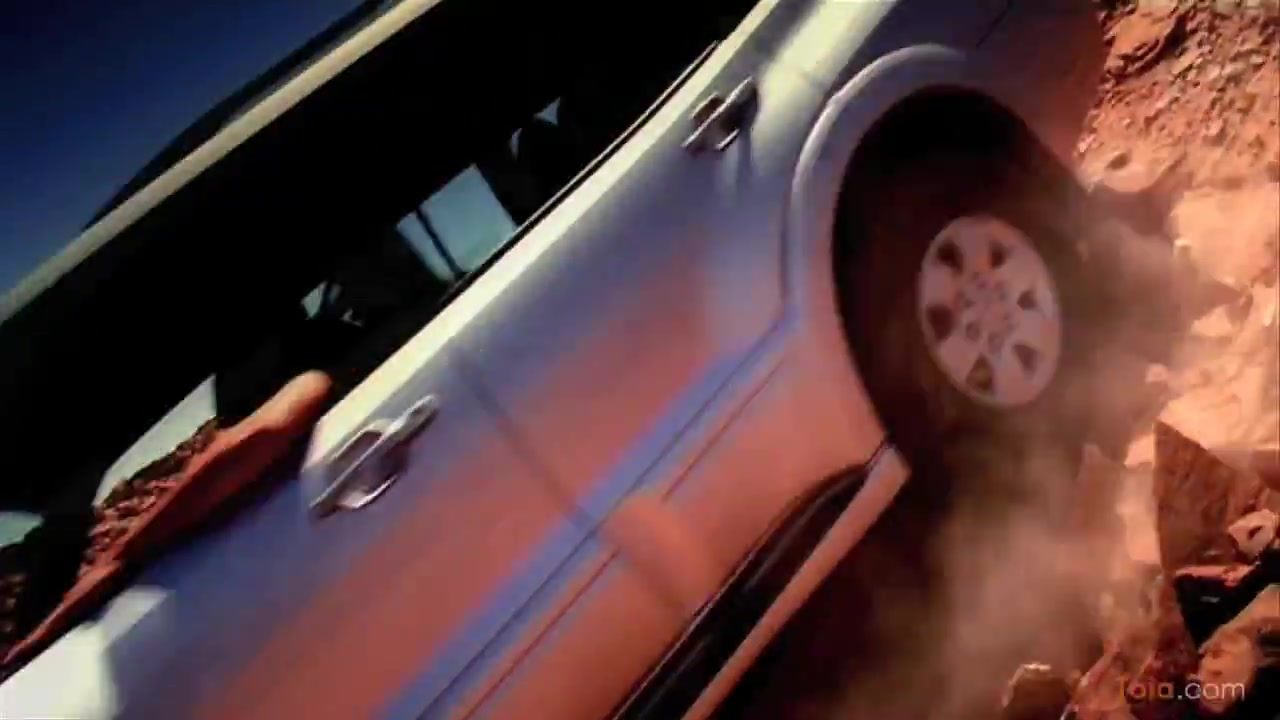car: (1, 2, 1128, 720)
